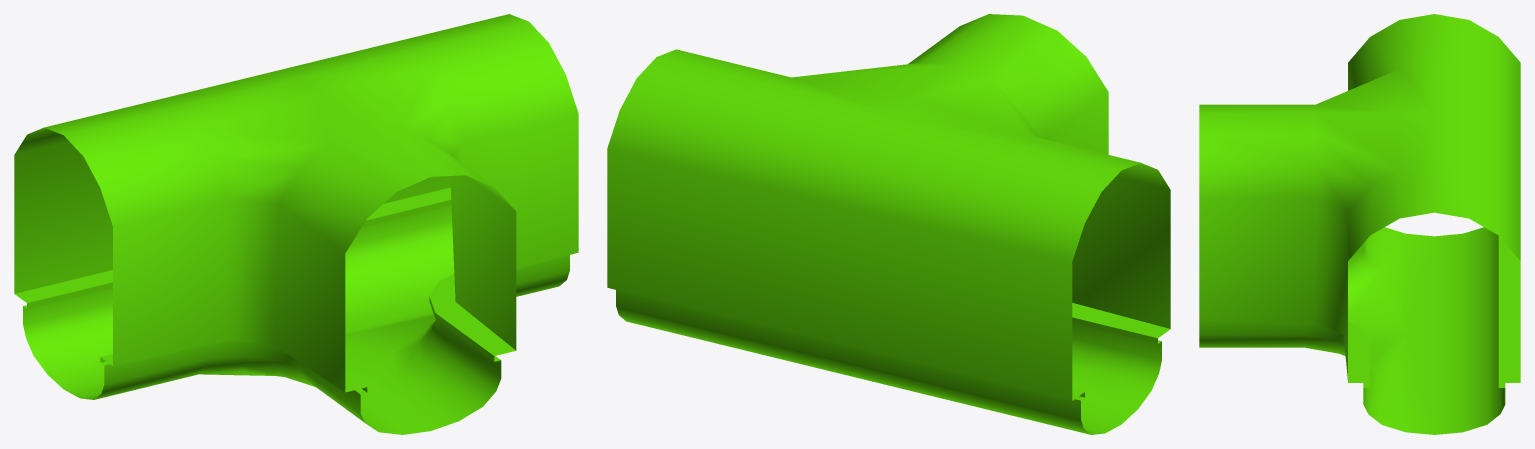
Rendered from SewerHallT.fbx.
The picture shows the model from 3 angles, left to right: view 1: azimuth 30°, elevation 25°; view 2: azimuth 150°, elevation 25°; view 3: azimuth 270°, elevation 25°; orthographic projection. The views are drawn at different scales.
Visible parts, largest first — view 1: SewerHub.002; view 2: SewerHub.002; view 3: SewerHub.002.
Part boxes in pixels (x1,y1,x2,y2): SewerHub.002: (14,14,578,434); SewerHub.002: (607,14,1170,434); SewerHub.002: (1199,14,1520,434).
Size of the model in its own units: 23.77 by 12.41 by 16.25.
